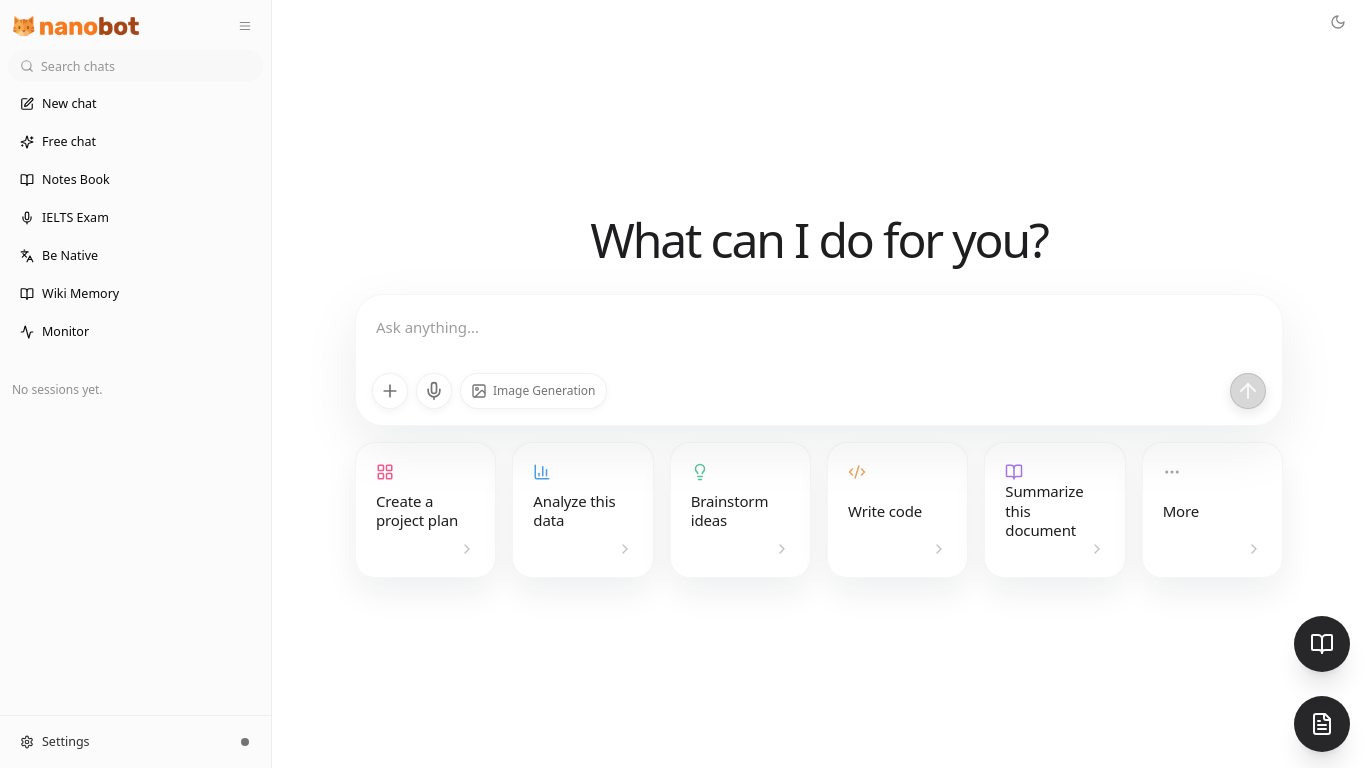
Test: App layout › opens the Be Native article picker from the sidebar
Click the button "Be Native" at (136, 256), box [8, 240, 263, 272]
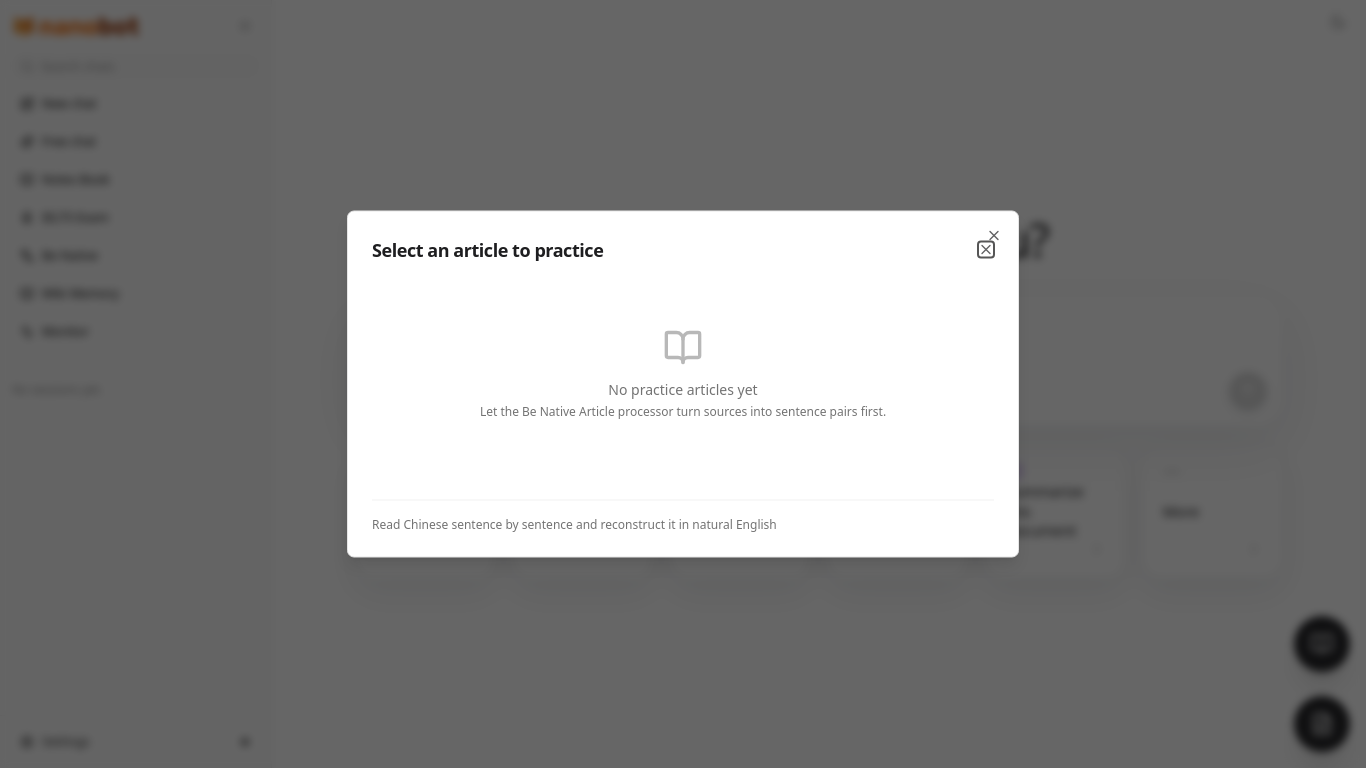
Now the heading "Select an article to practice" is shown, box [372, 236, 603, 264]
Now the text "No practice articles yet" is shown, box [608, 380, 758, 400]
